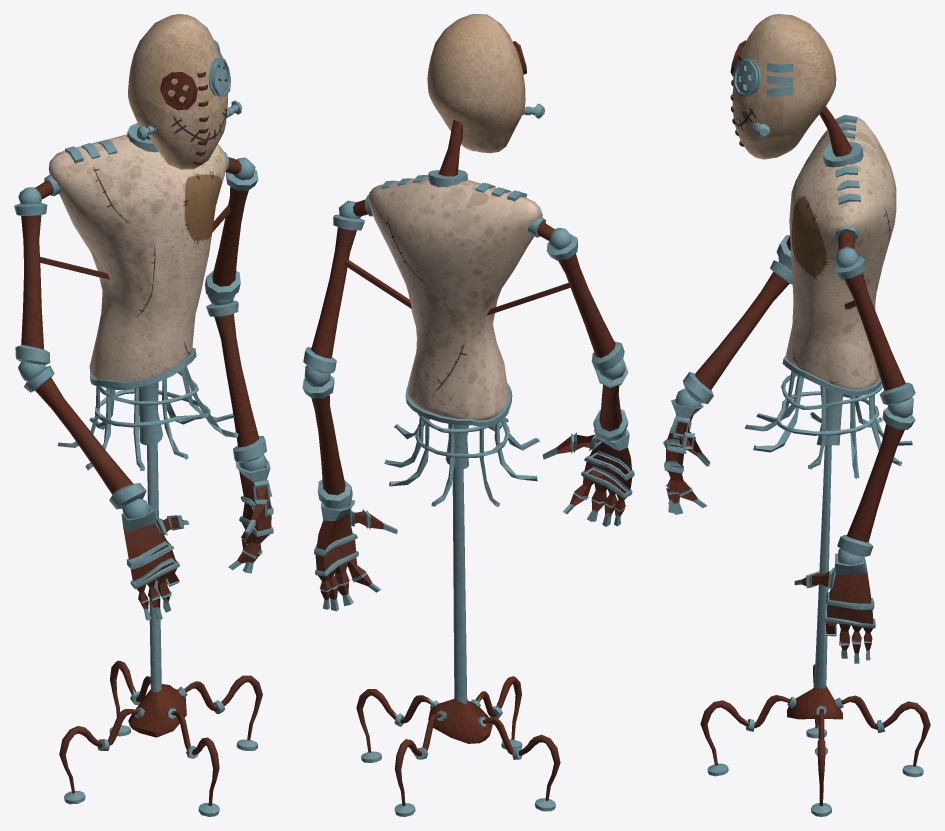
Rendered from Dummy.fbx.
The picture shows the model from 3 angles, left to right: view 1: azimuth 30°, elevation 25°; view 2: azimuth 150°, elevation 25°; view 3: azimuth 270°, elevation 25°; orthographic projection. The views are drawn at different scales.
Parts seen in each view (by area): view 1: Sphere.007; view 2: Sphere.007; view 3: Sphere.007.
Part boxes in pixels (bbox=[...]): Sphere.007: bbox=[14, 14, 273, 816]; Sphere.007: bbox=[302, 14, 634, 816]; Sphere.007: bbox=[663, 14, 930, 816].
Size of the model in its own units: 112 by 296 by 94.37.
